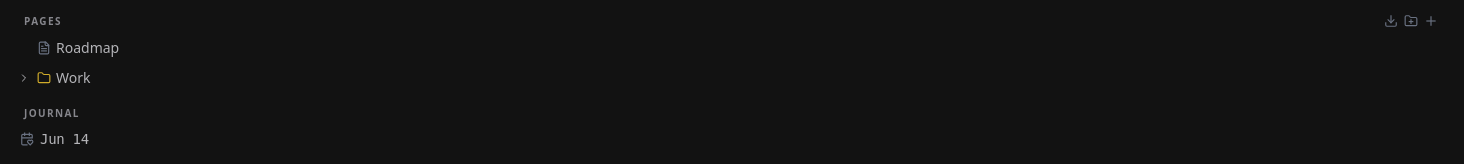
Test: VaultTree - right-click menu › offers a journal entry only what a date-filed note can do
The width and height of the screenshot is (1464, 164).
Right-click the text "Jun 14" at (54, 139), box 20,131 -> 89,147
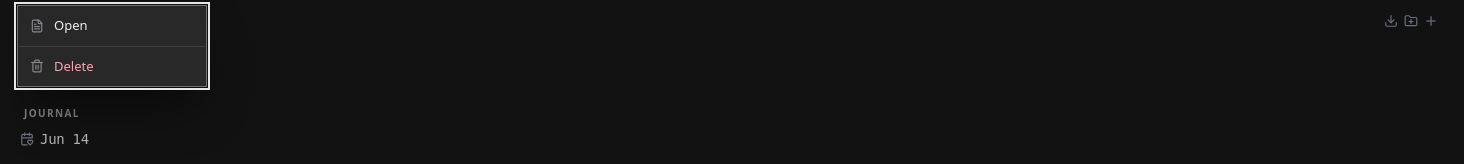
Result: the menu items read "Open", "Delete", in this order at 18,10 -> 206,42; 18,50 -> 206,82
